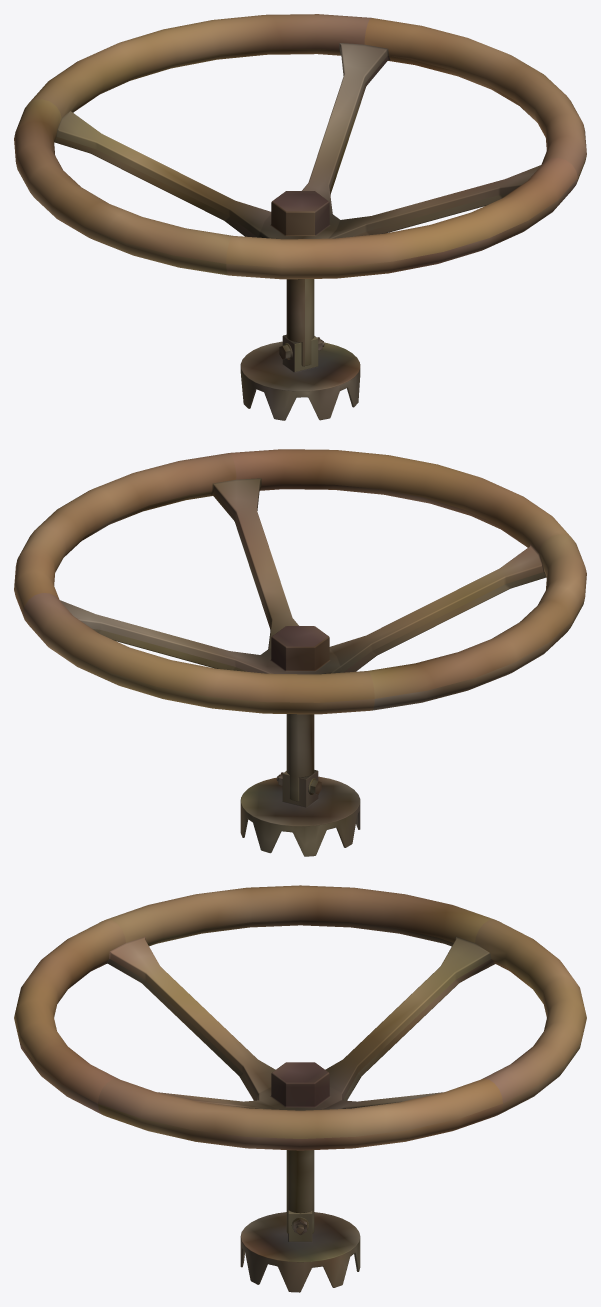
The model's file is valve-wheel.gltf.
3 renders of one model, top to bottom at view 1: azimuth 30°, elevation 25°; view 2: azimuth 150°, elevation 25°; view 3: azimuth 270°, elevation 25°, orthographic.
Visible parts, largest first — view 1: obturator; view 2: obturator; view 3: obturator.
Part boxes in pixels (x1,y1,x2,y2): obturator: (14, 14, 586, 420); obturator: (14, 449, 586, 856); obturator: (14, 885, 586, 1292).
Bounding box in the file's own units: 0.5458 × 0.2812 × 0.5458.
Materials: 1 (1 with a texture image).
